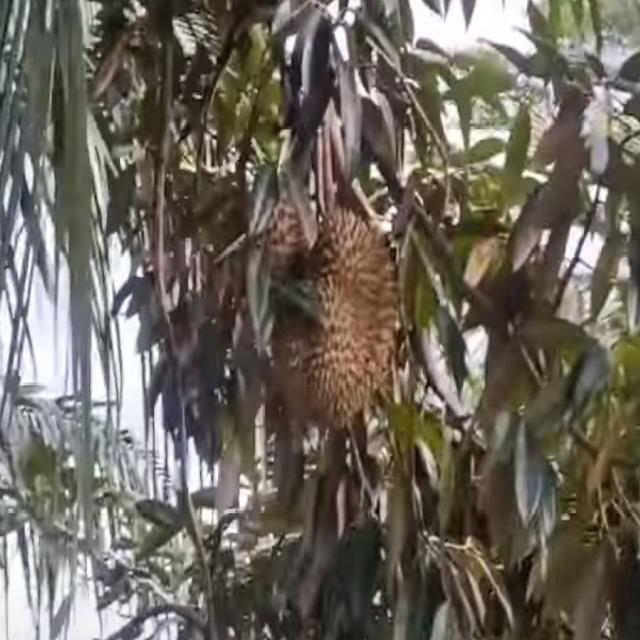mature: (240, 205, 402, 421)
